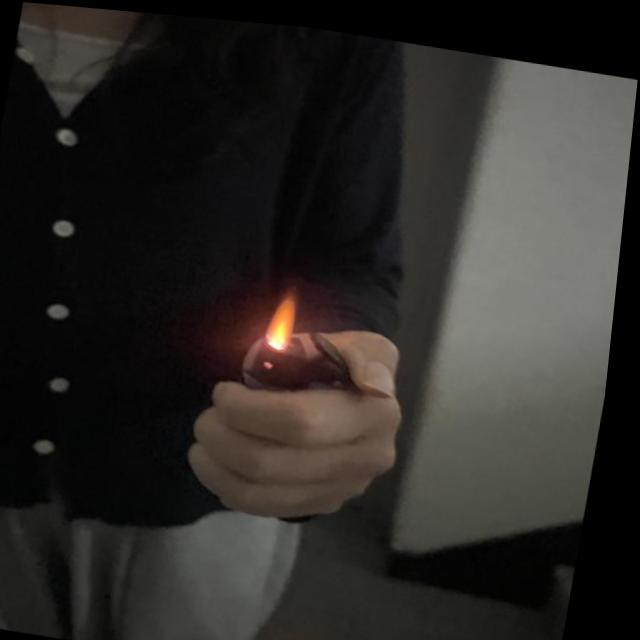Fire: (270, 283, 306, 339)
